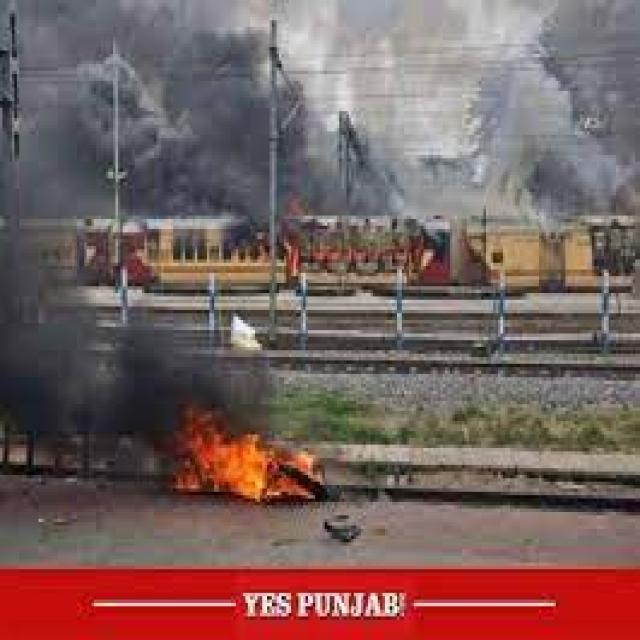Fire: (172, 410, 314, 503)
Smoke: (110, 0, 640, 232), (0, 0, 111, 320), (0, 322, 171, 500), (170, 324, 282, 410)
